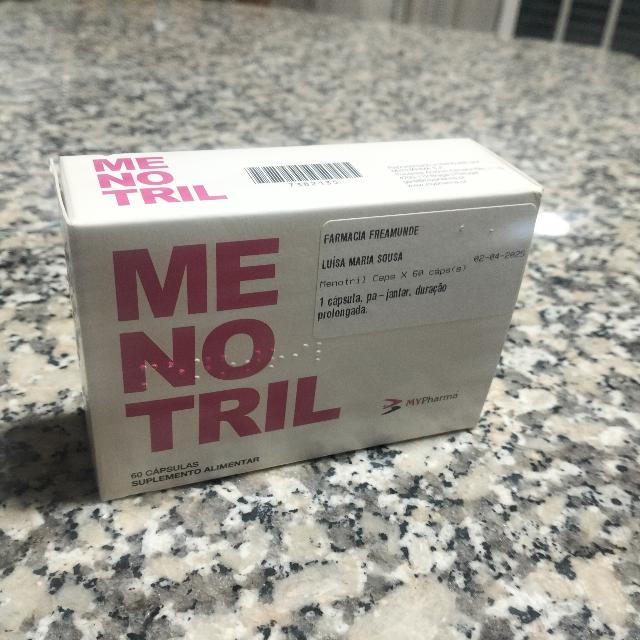caixa: (48, 136, 546, 504)
